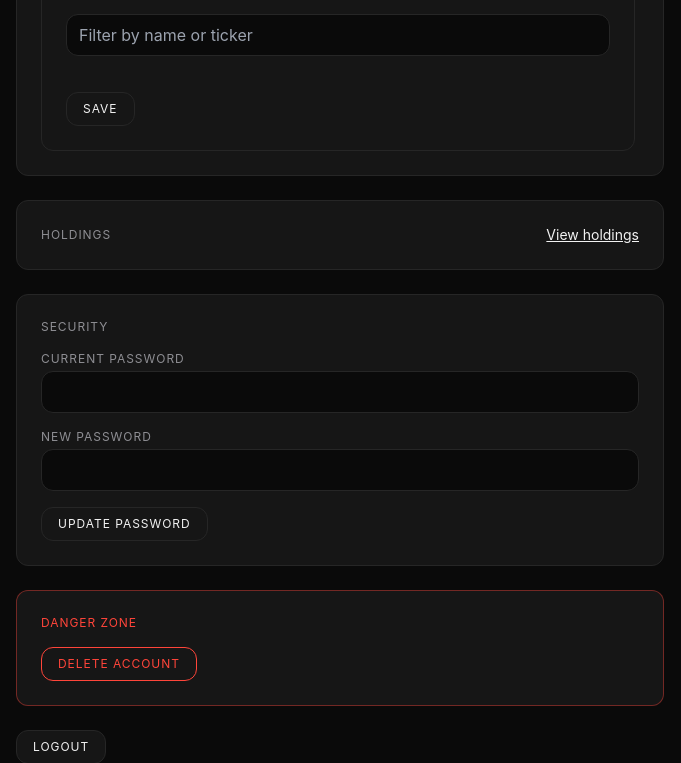
Test: AccountPage › changes password successfully
The image size is (681, 763).
(page scrolled)
Type "oldpass1" into the password field labelled "Current password".
click(340, 392); type("oldpass1")  # box [41,371,639,413]
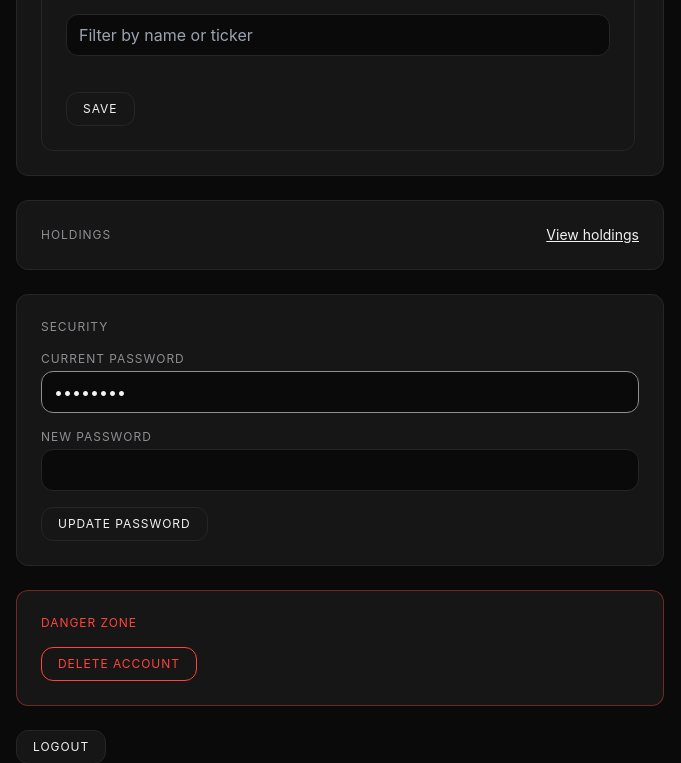
Type "newpass2" into the password field labelled "New password".
click(340, 470); type("newpass2")  # box [41,449,639,491]
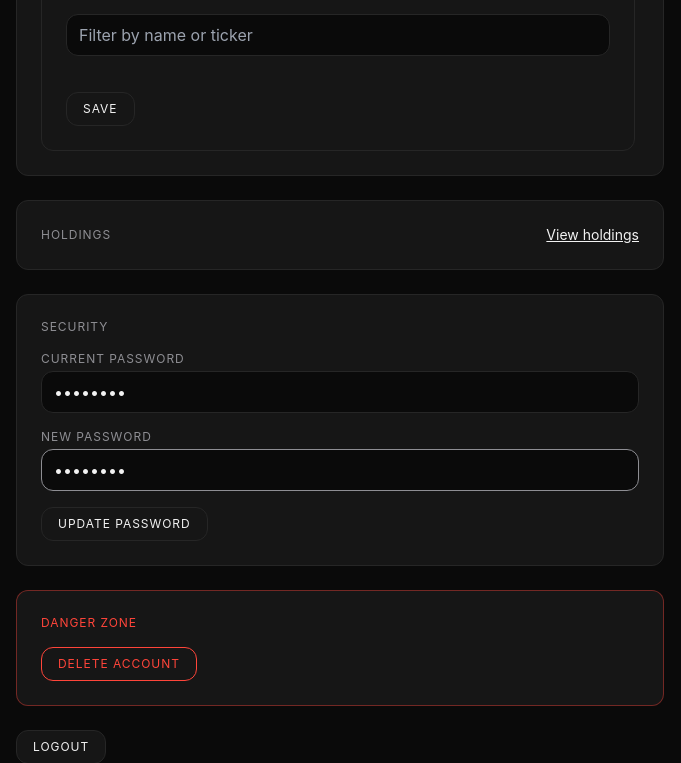
Click the button "Update password".
click(124, 524)  # box [41,507,208,541]
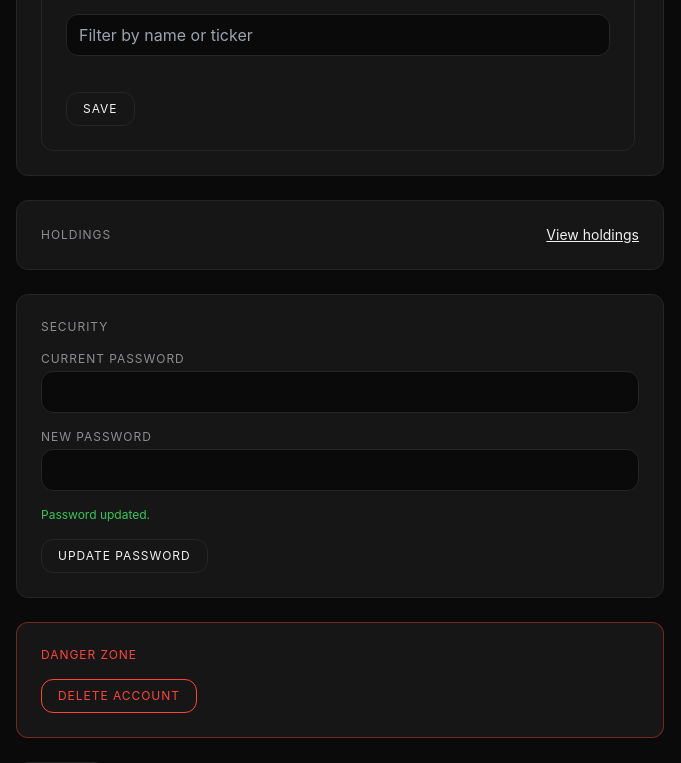
Check: the message shows "Password updated", box [41,507,150,522]
